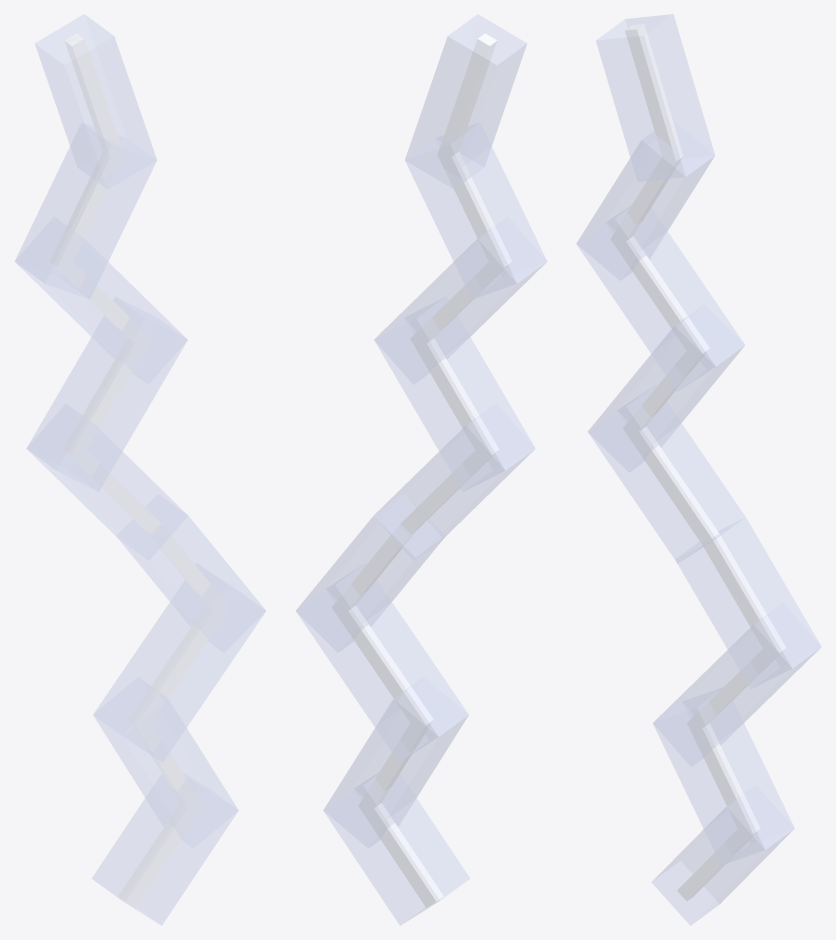
Rendered from bolt.gltf.
The picture shows the model from 3 angles, left to right: view 1: azimuth 30°, elevation 25°; view 2: azimuth 150°, elevation 25°; view 3: azimuth 330°, elevation 25°; orthographic projection. The views are drawn at different scales.
Parts seen in each view (by area): view 1: glow_3, glow_6, glow_8, glow_9, glow_7, glow_2, glow_1, glow_5, glow_4, core_3, core_6, core_8 (+6 smaller); view 2: glow_3, glow_6, glow_8, glow_9, glow_7, glow_2, glow_1, glow_5, glow_4, core_3, core_6, core_8 (+6 smaller); view 3: glow_7, glow_2, glow_9, glow_5, glow_4, glow_6, glow_3, glow_8, glow_1, core_9, core_5, core_7 (+6 smaller).
Part boxes in pixels (x1,y1,x2,y2): glow_3: [93, 563, 265, 762]; glow_6: [26, 297, 187, 491]; glow_8: [14, 122, 156, 299]; glow_9: [35, 14, 156, 189]; glow_7: [15, 217, 187, 384]; glow_2: [93, 677, 238, 848]; glow_1: [92, 773, 238, 925]; glow_5: [26, 404, 188, 560]; glow_4: [116, 494, 265, 652]; core_3: [128, 605, 229, 724]; core_6: [63, 334, 150, 458]; core_8: [50, 151, 124, 266]; glow_3: [296, 563, 468, 762]; glow_6: [374, 297, 535, 491]; glow_8: [405, 122, 547, 299]; glow_9: [405, 14, 526, 189]; glow_7: [374, 217, 546, 384]; glow_2: [323, 677, 468, 848]; glow_1: [323, 773, 469, 925]; glow_5: [373, 404, 535, 560]; glow_4: [296, 494, 445, 652]; core_3: [332, 604, 433, 724]; core_6: [411, 334, 498, 454]; core_8: [437, 151, 511, 266]; glow_7: [576, 206, 744, 391]; glow_2: [653, 687, 794, 865]; glow_9: [596, 14, 714, 181]; glow_5: [588, 385, 745, 563]; glow_4: [675, 517, 821, 688]; glow_6: [588, 304, 744, 472]; glow_3: [653, 603, 820, 766]; glow_8: [576, 120, 714, 280]; glow_1: [651, 785, 794, 925]; core_9: [625, 24, 682, 161]; core_5: [623, 422, 719, 544]; core_7: [611, 233, 709, 353].
Bounding box in the file's own units: 1.06 × 4.12 × 0.25.
Materials: 2 (2 with a texture image).
